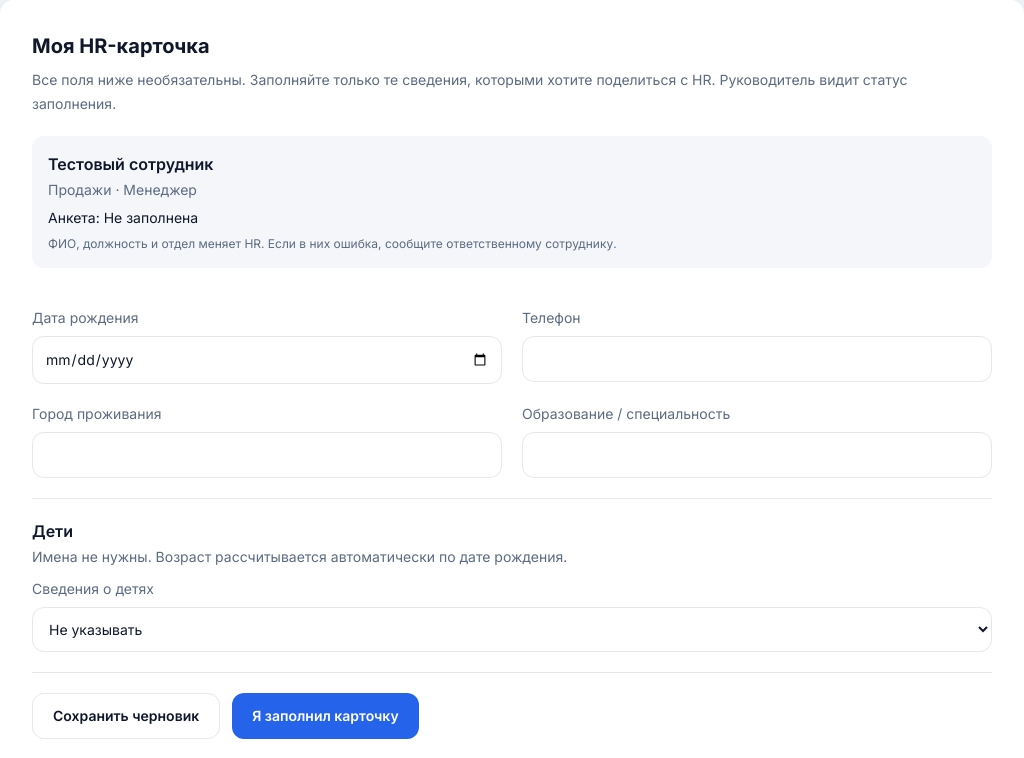
it: EmployeeProfileForm › does not say saved when another tab changed the record
Expected: the text "Тестовый сотрудник" is shown, x1=48 y1=154 x2=214 y2=174
Click the button "Сохранить черновик" at (126, 716), box x1=32 y1=693 x2=220 y2=739
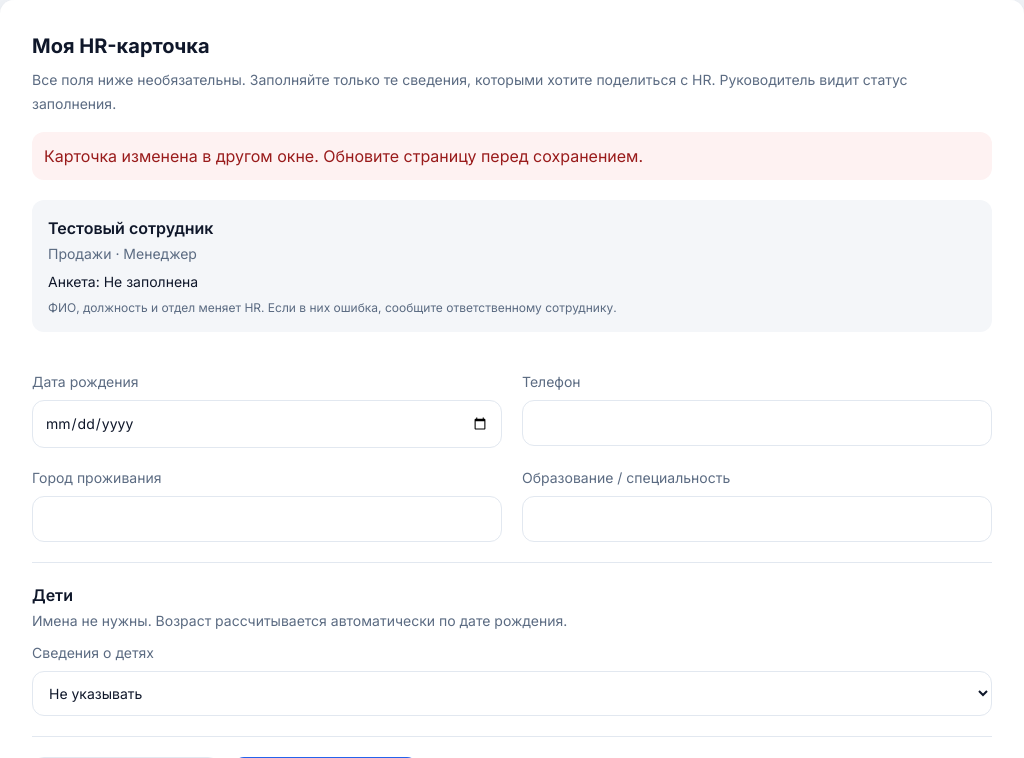
Result: the message shows "другом окне" at x1=44 y1=146 x2=643 y2=166
